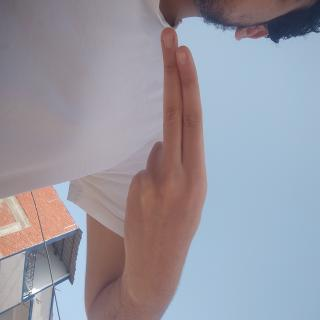AYN: (18, 143, 240, 265)
